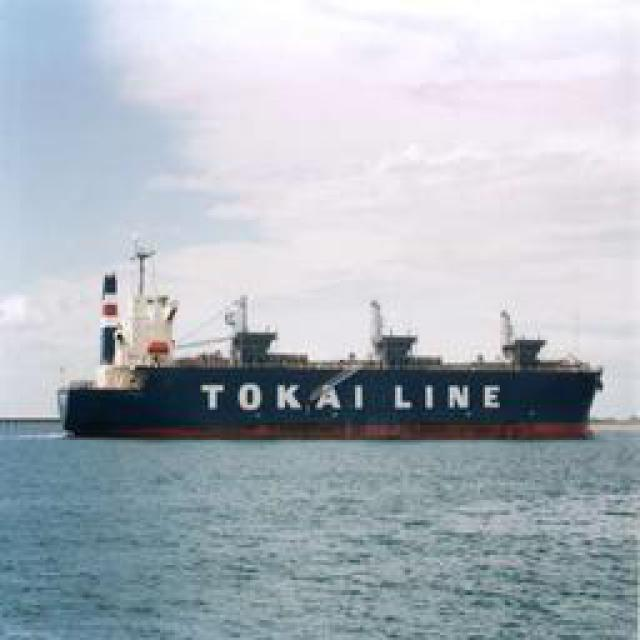Ship: (63, 301, 601, 444)
